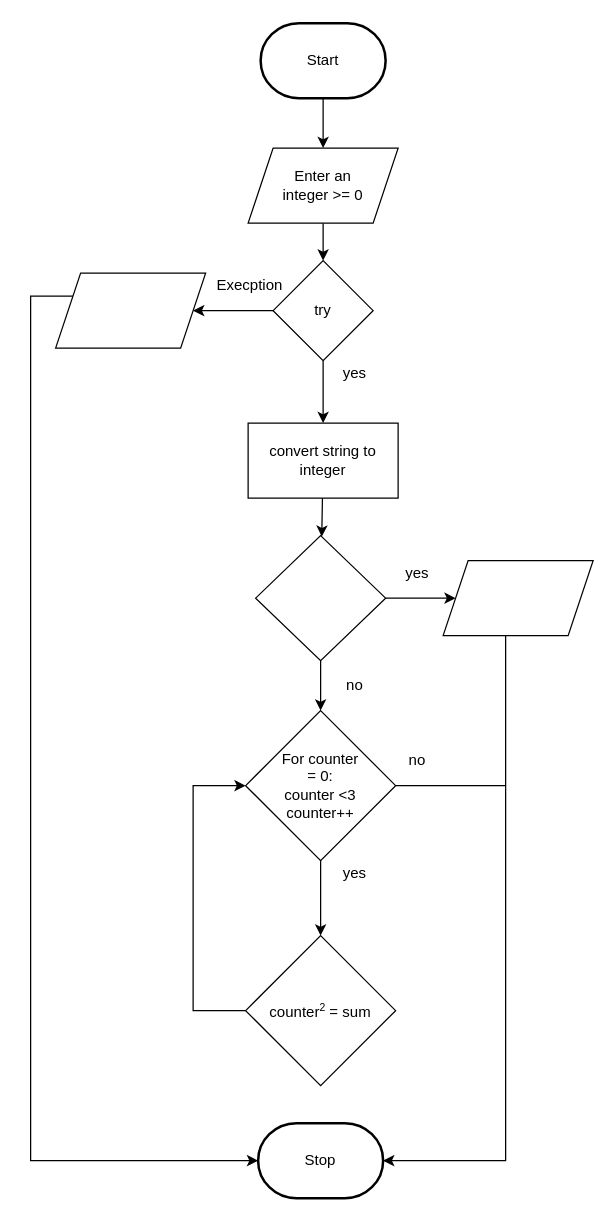
This 615x1220 diagram has some shape labels left out. Each missing label, with the centre of its shape:
"If user_ number < 0" goes at pixel 320 597.
"number must be positive" goes at pixel 517 597.
"¯\(°_o)/¯ invalid input" goes at pixel 130 310.
